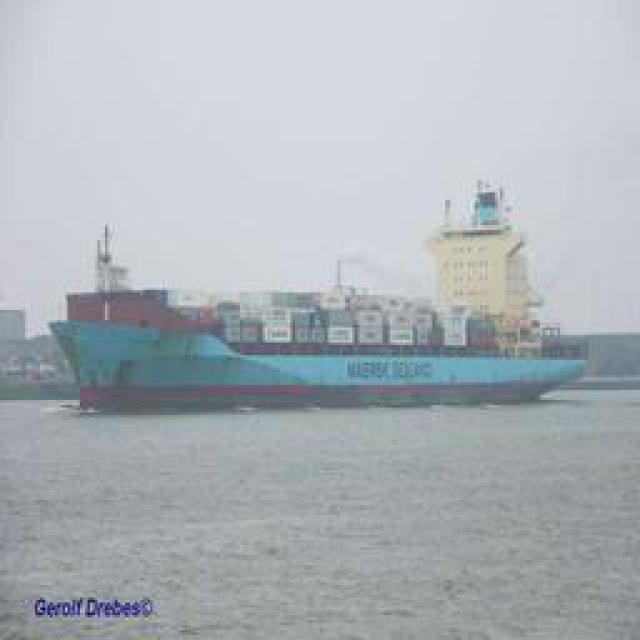Ship: (59, 290, 584, 410)
